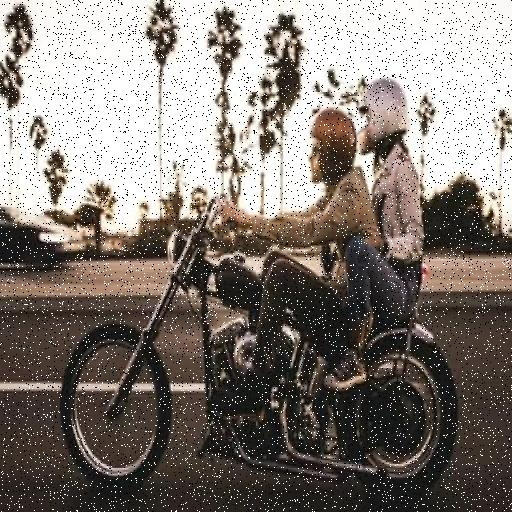Helmet: (348, 78, 418, 160), (304, 108, 356, 184)
Motor: (4, 188, 454, 498)
